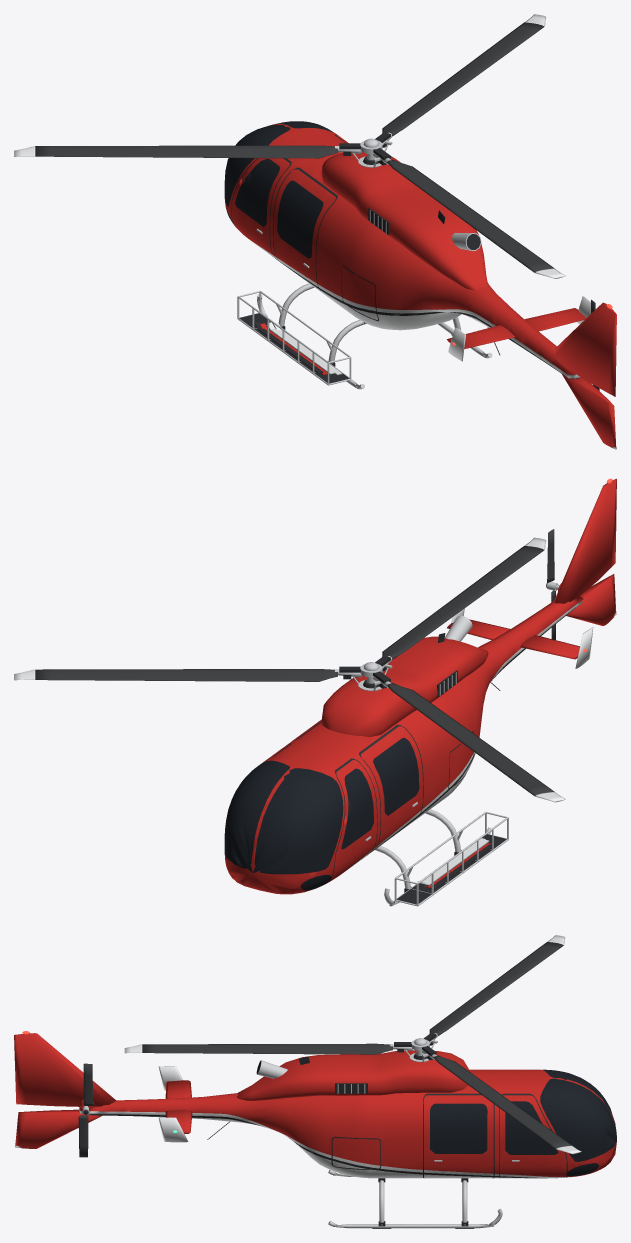
The model's file is heli.glb.
3 renders of one model, top to bottom at view 1: azimuth 30°, elevation 25°; view 2: azimuth 150°, elevation 25°; view 3: azimuth 270°, elevation 25°, orthographic. The views are drawn at different scales.
Visible parts, largest first — view 1: heli_body, heli_rotor; view 2: heli_body, heli_rotor, heli_tail_rotor; view 3: heli_body, heli_rotor, heli_tail_rotor.
Part boxes in pixels (x1,y1,x2,y2): heli_body: (224, 121, 616, 449); heli_rotor: (14, 14, 565, 278); heli_body: (224, 478, 616, 906); heli_rotor: (14, 537, 565, 802); heli_tail_rotor: (546, 529, 558, 639); heli_body: (14, 1031, 616, 1228); heli_rotor: (124, 935, 581, 1154); heli_tail_rotor: (78, 1063, 93, 1157).
Bounding box in the file's own units: 9.37 × 3.42 × 10.9.
